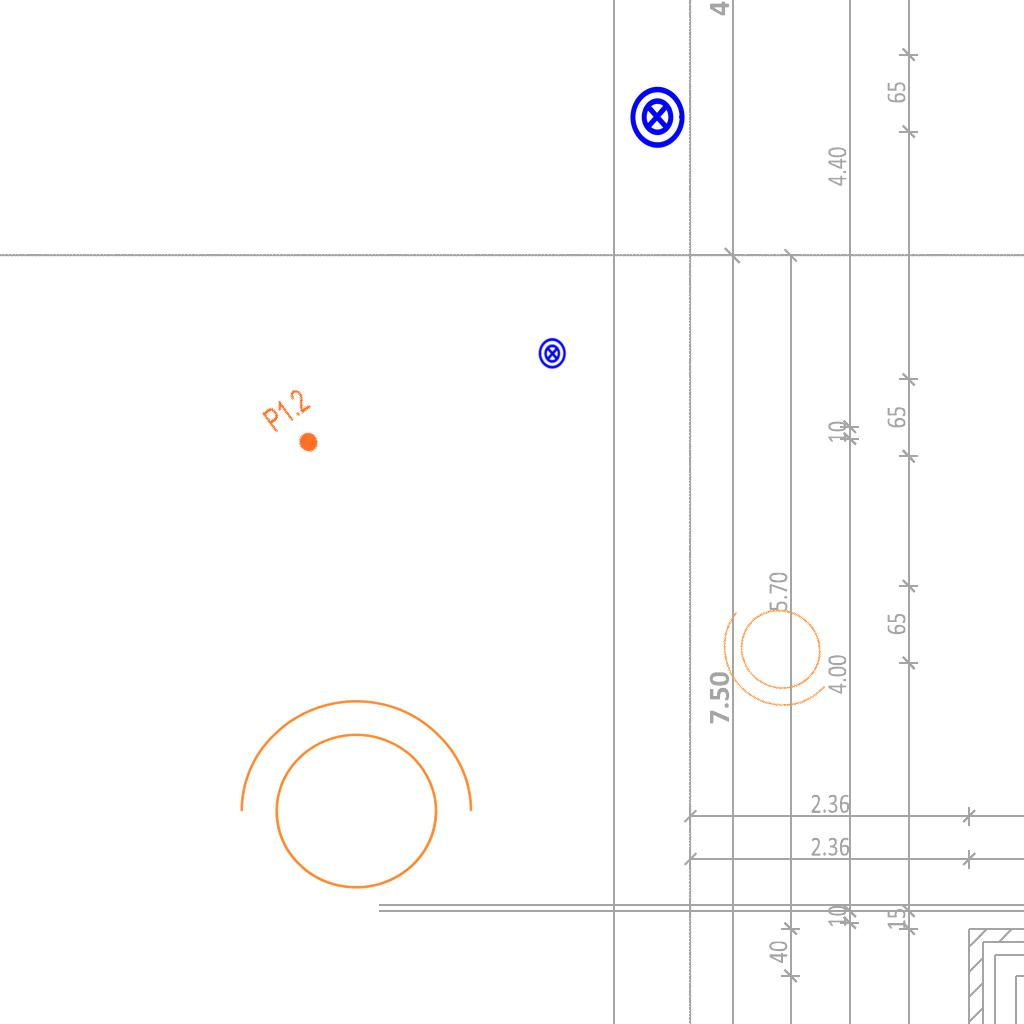Downlight_LED_Einbauleuchten_Flur: (259, 385, 335, 465)
Scheinwerfer_fuer_Alarmbeleuchtung: (218, 689, 482, 914), (693, 569, 867, 741)
Taster_beleuchtet: (624, 84, 690, 150), (536, 337, 569, 370)
